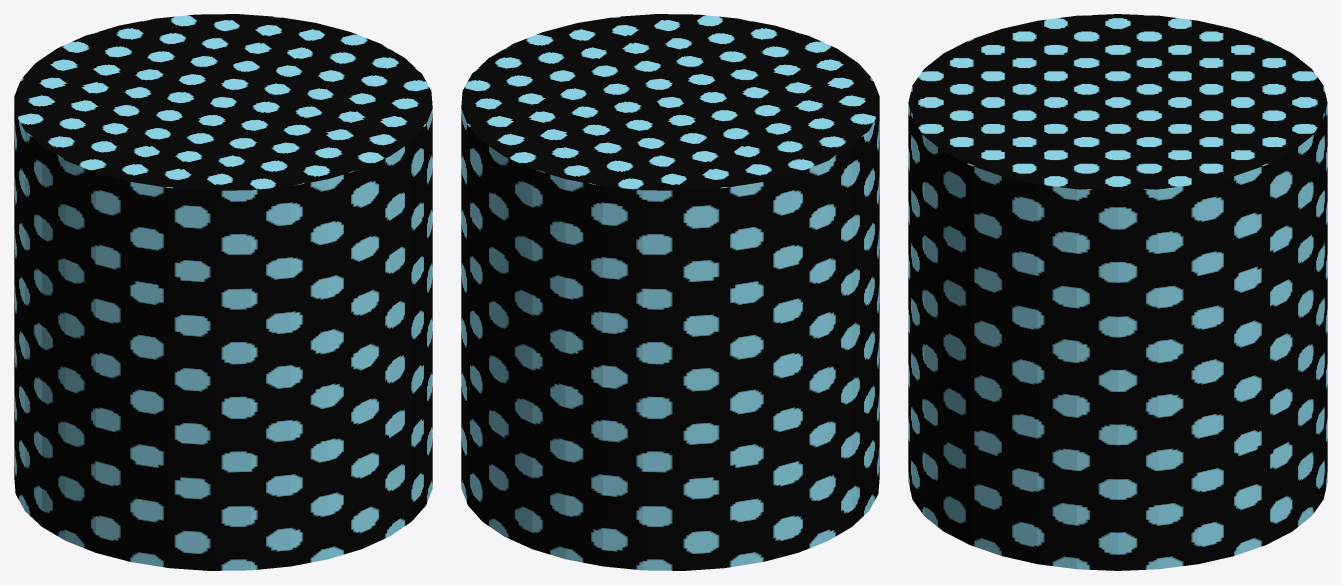
File: maru.obj
3 views of the same model, side by side, from view 1: azimuth 30°, elevation 25°; view 2: azimuth 150°, elevation 25°; view 3: azimuth 270°, elevation 25° (orthographic).
Visible parts, largest first — view 1: 円柱; view 2: 円柱; view 3: 円柱.
Boxes of the visible parts, left/top/right/bottom form: 円柱: left=14, top=14, right=432, bottom=570; 円柱: left=461, top=14, right=879, bottom=570; 円柱: left=908, top=14, right=1327, bottom=570.
Bounding box in the file's own units: 2 × 2 × 2.
